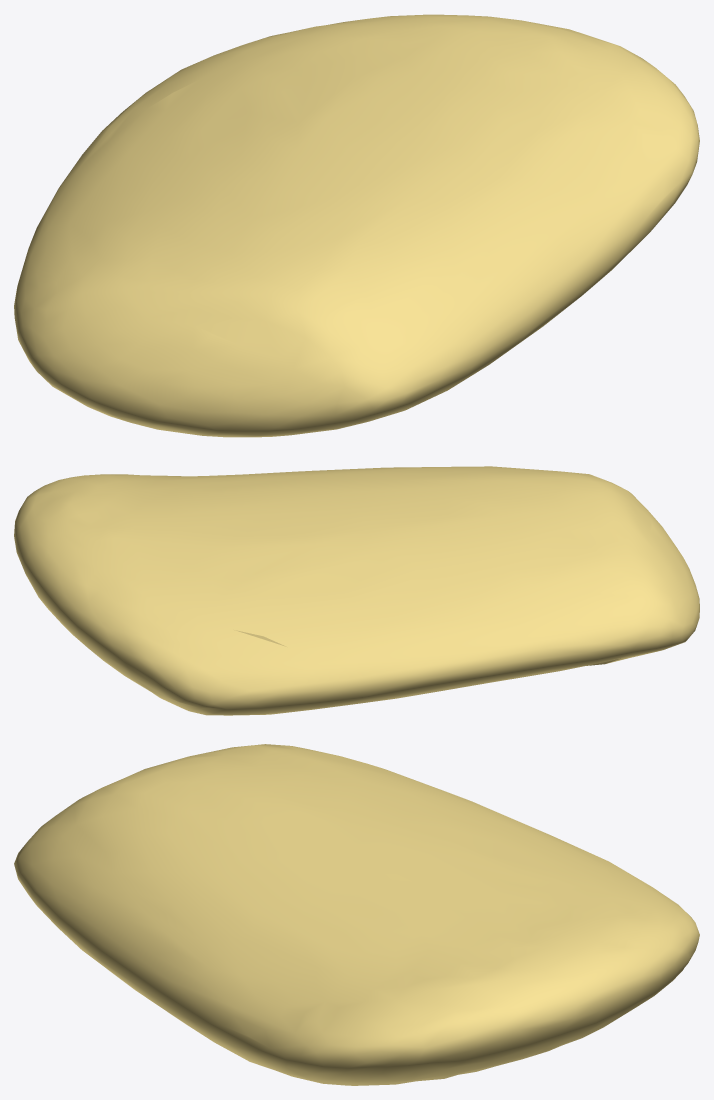
The model's file is fma73332_fj7494.glb.
3 renders of one model, top to bottom at view 1: azimuth 30°, elevation 25°; view 2: azimuth 150°, elevation 25°; view 3: azimuth 270°, elevation 25°, orthographic. The views are drawn at different scales.
Visible parts, largest first — view 1: FMA73332_FJ7494; view 2: FMA73332_FJ7494; view 3: FMA73332_FJ7494.
Boxes of the visible parts, x1=… form: FMA73332_FJ7494: x1=14, y1=14, x2=699, y2=437; FMA73332_FJ7494: x1=14, y1=466, x2=699, y2=715; FMA73332_FJ7494: x1=14, y1=744, x2=699, y2=1085.
Size of the model in its own units: 0.00468 by 0.001 by 0.00423.
